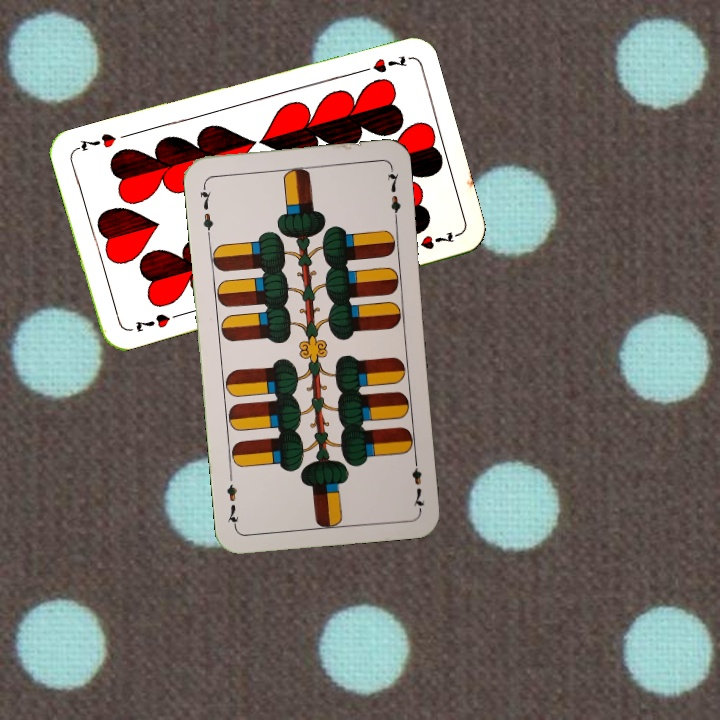E7: (195, 180, 216, 240), (407, 453, 428, 512)
H7: (353, 51, 410, 77), (131, 309, 173, 335)
